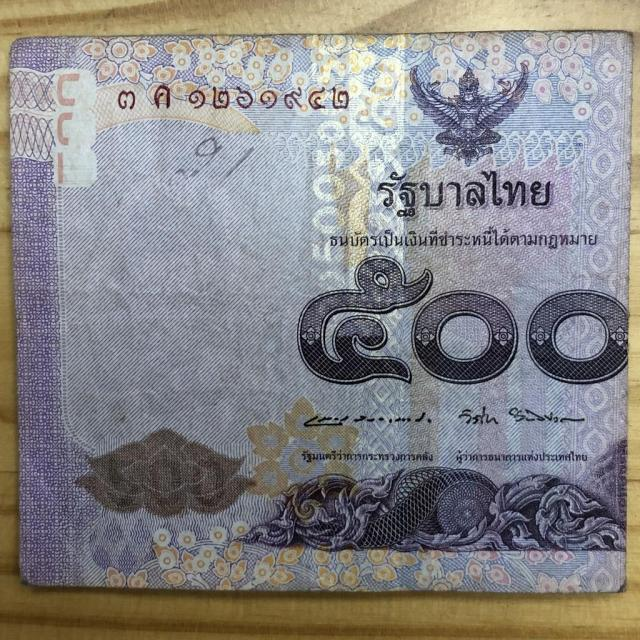THAI500: (18, 35, 629, 593)
